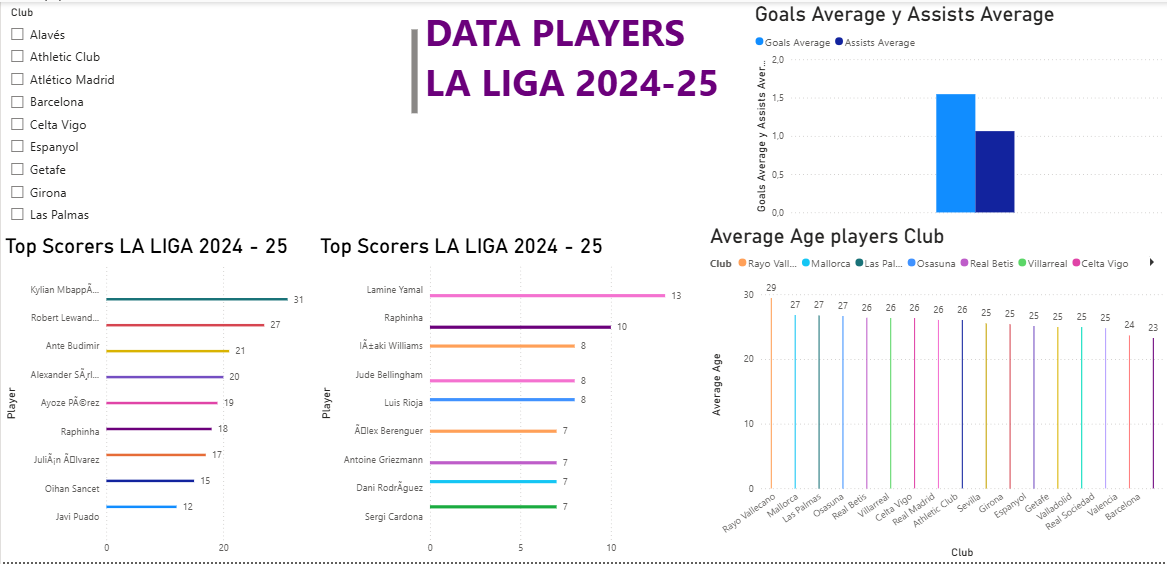

This screenshot's page, from the dashboard's own definition file:
{"tool":"powerbi","page":{"name":"Datos Jugadores","canvas":[1500,720],"ordinal":1},"visuals":[{"type":"clusteredBarChart","title":" Top Scorers LA LIGA 2024 - 25","fields":{"Category":["players_clean.Player"],"Series":["players_clean.Goals"],"Y":["players_clean.Goals"]},"box":[0,296.8,405.4,423.5],"z":0},{"type":"slicer","fields":{"Values":["clasification_clean.Club"]},"box":[0,0,540.7,285.4],"z":1000},{"type":"textbox","box":[540.7,0,424,208.6],"z":2000},{"type":"clusteredBarChart","title":" Top Scorers LA LIGA 2024 - 25","fields":{"Category":["players_clean.Player"],"Series":["players_clean.Goals"],"Y":["players_clean.Assists"]},"box":[405.2,297.5,482.4,422.9],"z":3000},{"type":"clusteredColumnChart","fields":{"Y":["players_clean.Goals Average","players_clean.Assists Average"]},"box":[964.8,0,535.5,284.6],"z":4000},{"type":"clusteredColumnChart","title":"Average Age players Club","fields":{"Category":["clasification_clean.Club"],"Y":["players_clean.Average Age"],"Series":["clasification_clean.Club"]},"box":[906.9,284.6,593.4,435.8],"z":5000}]}

Visuals, with their boxes in screenshot pixels (x1, y1, x2, y2), scaled from the page's 1500x720 canvas onto the 1167x564 screenshot:
" Top Scorers LA LIGA 2024 - 25" clusteredBarChart: l=0, t=232, r=315, b=563
slicer - clasification_clean.Club: l=0, t=0, r=421, b=224
textbox: l=421, t=0, r=751, b=163
" Top Scorers LA LIGA 2024 - 25" clusteredBarChart: l=315, t=233, r=691, b=563
clusteredColumnChart - players_clean.Goals Average x players_clean.Assists Average: l=751, t=0, r=1166, b=223
"Average Age players Club" clusteredColumnChart: l=706, t=223, r=1166, b=563
